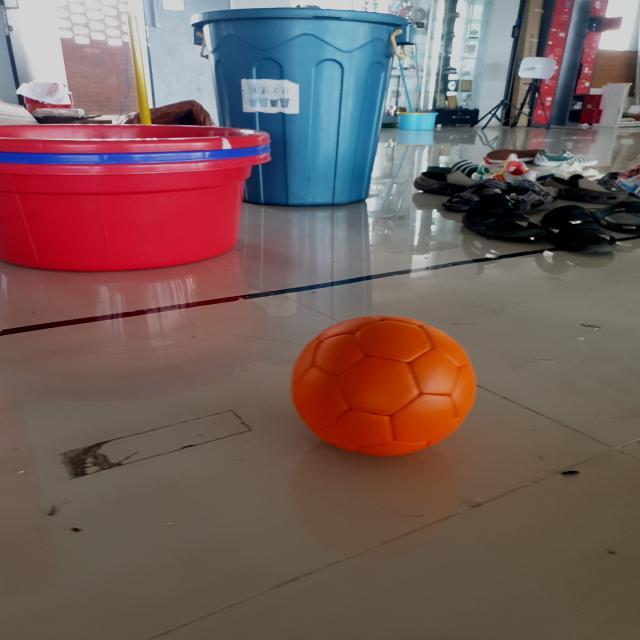bola: (282, 306, 486, 468)
